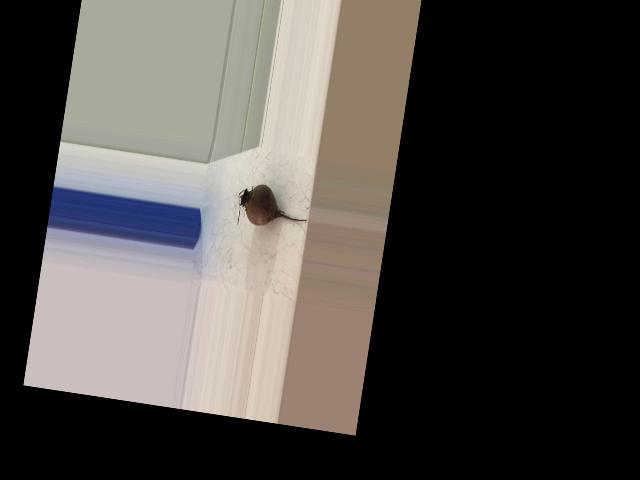beet: (234, 181, 311, 236)
